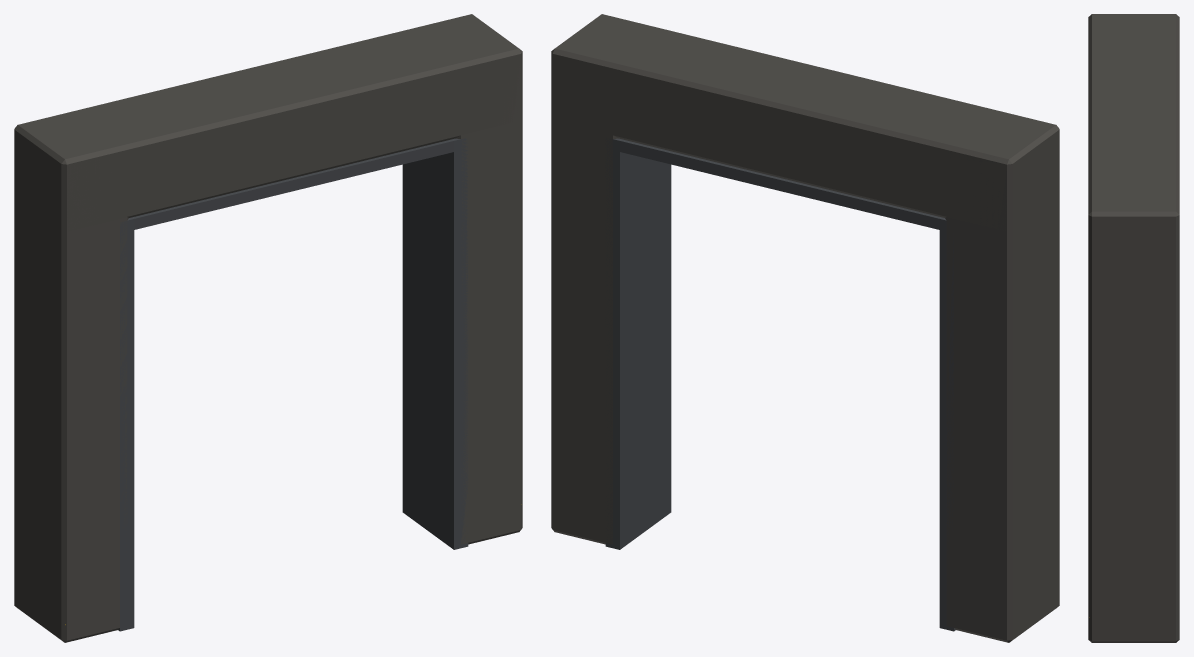
The model's file is prop_vault_door_frame.fbx.
The picture shows the model from 3 angles, left to right: view 1: azimuth 30°, elevation 25°; view 2: azimuth 150°, elevation 25°; view 3: azimuth 270°, elevation 25°; orthographic projection. The views are drawn at different scales.
Parts seen in each view (by area): view 1: prop_vault_door_frame; view 2: prop_vault_door_frame; view 3: prop_vault_door_frame.
Boxes of the visible parts, x1=… form: prop_vault_door_frame: x1=14, y1=14, x2=522, y2=642; prop_vault_door_frame: x1=551, y1=14, x2=1059, y2=642; prop_vault_door_frame: x1=1088, y1=14, x2=1179, y2=642.
Size of the model in its own units: 2.6 by 2.6 by 0.5.
